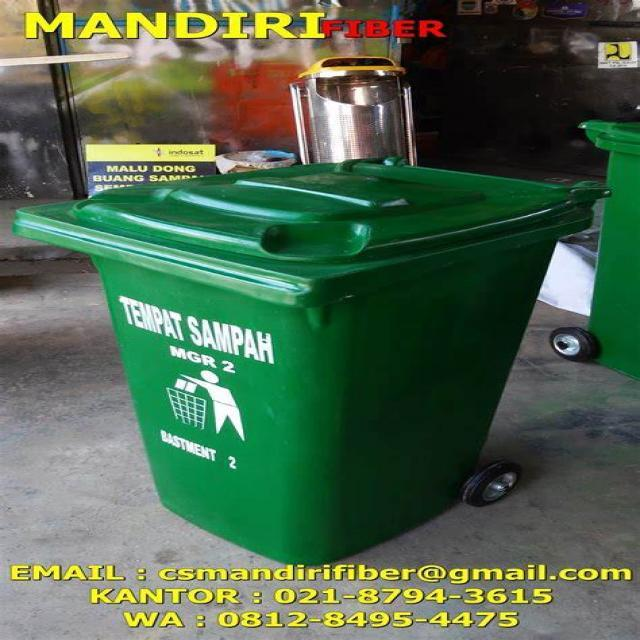garbage container: (1, 124, 614, 560)
